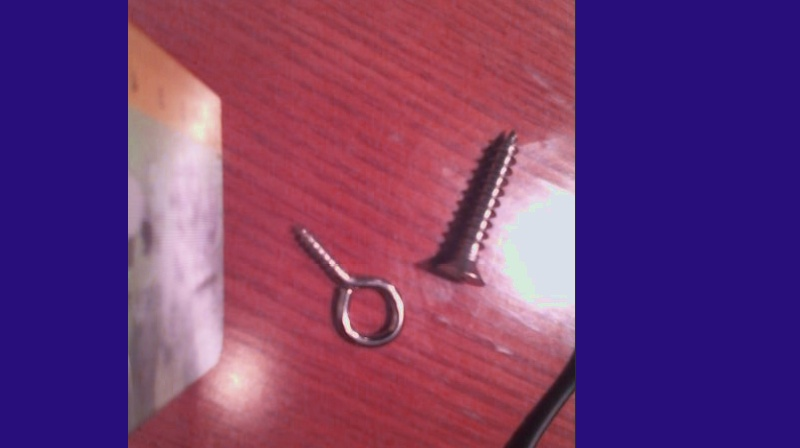O001: (289, 215, 406, 349)
S001: (431, 128, 520, 289)
